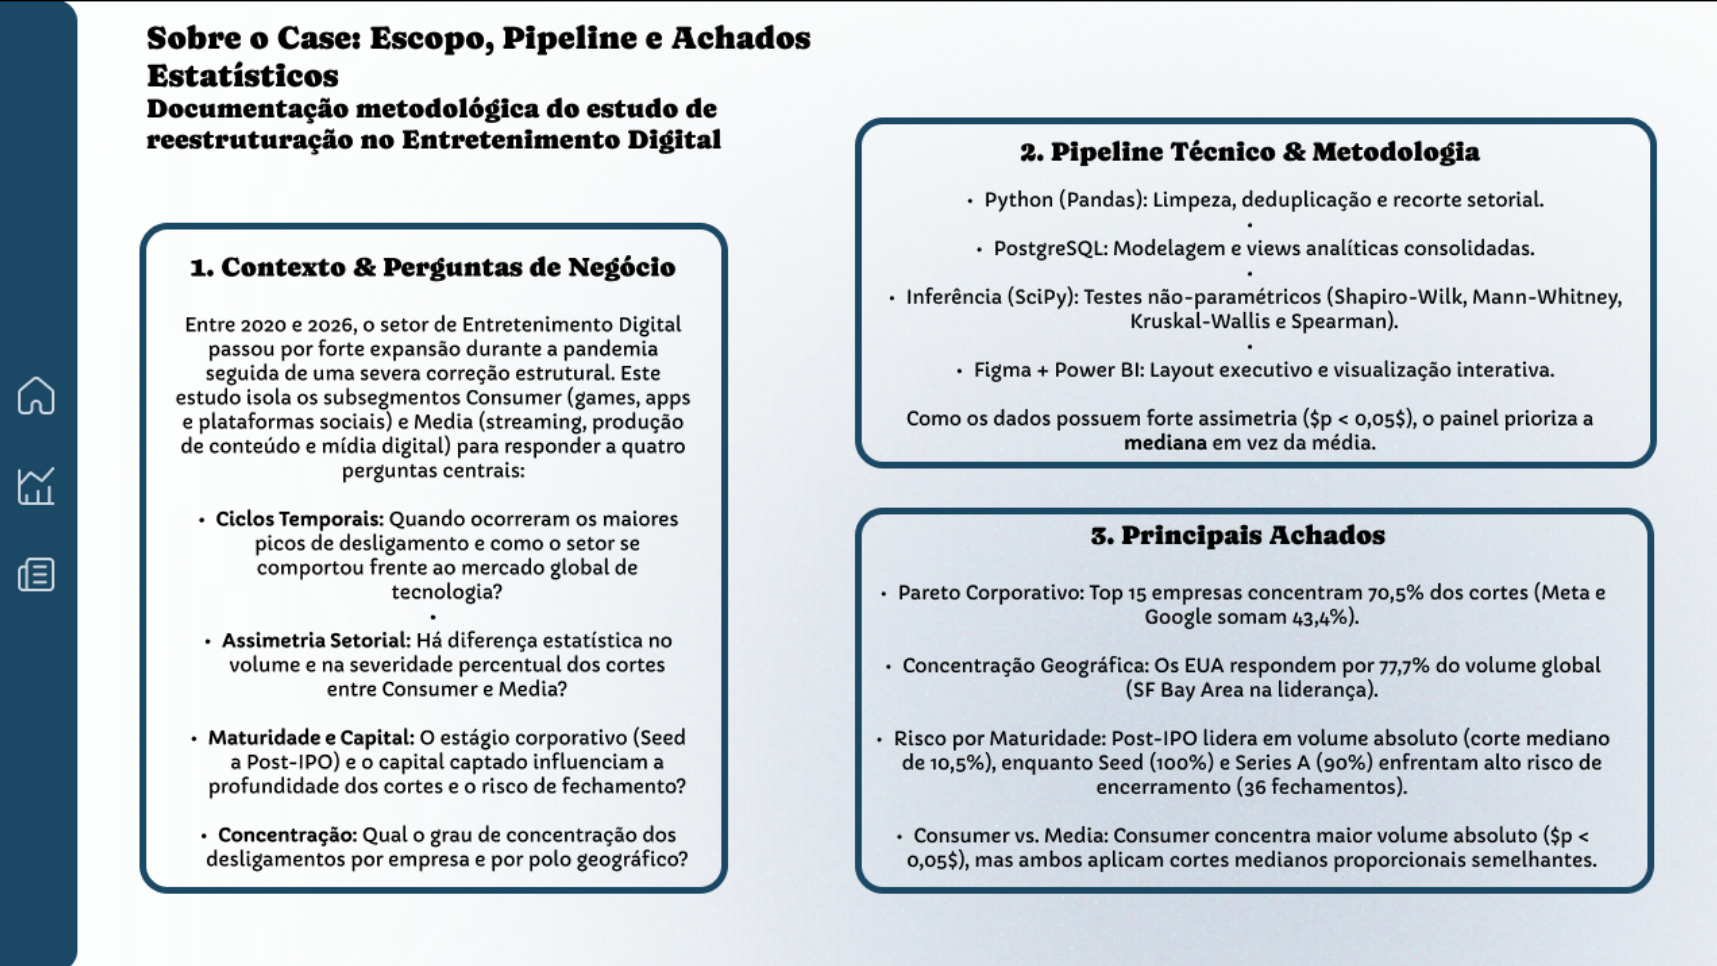

The page's visual inventory and layout, read from the dashboard file:
{"tool":"powerbi","page":{"name":"Sobre o Case","canvas":[1920,1080],"ordinal":3},"visuals":[{"type":"image","title":"Imagem","box":[0,0,1920,1080],"z":0,"group":"g1"},{"type":"image","title":"Padrão","box":[0,0,1920,1080],"z":0},{"type":"group","id":"g1","title":"Navegação","box":[0,0,1920,1080],"z":1000},{"type":"pageNavigator","box":[120,432,192,216],"z":1000,"group":"g1"},{"type":"actionButton","title":"Voltar a Página Padrão","box":[290,35,40,40],"z":2000},{"type":"actionButton","title":"Painel Navegação","box":[7,505,72,72],"z":3000},{"type":"pageNavigator","title":"Sobre o Case","box":[12,608,60,60],"z":4000},{"type":"pageNavigator","title":"Home","box":[22,418,60,60],"z":5000}]}

Visuals, with their boxes on the page's 1920x1080 design canvas (x1, y1, x2, y2). These are canvas units, not pixel positions in the 1717x966 screenshot, which may show the page scaled, cropped or inside an application window:
"Imagem" image: l=0, t=0, r=1920, b=1080
"Padrão" image: l=0, t=0, r=1920, b=1080
"Navegação" group: l=0, t=0, r=1920, b=1080
pageNavigator: l=120, t=432, r=312, b=648
"Voltar a Página Padrão" actionButton: l=290, t=35, r=330, b=75
"Painel Navegação" actionButton: l=7, t=505, r=79, b=577
"Sobre o Case" pageNavigator: l=12, t=608, r=72, b=668
"Home" pageNavigator: l=22, t=418, r=82, b=478
